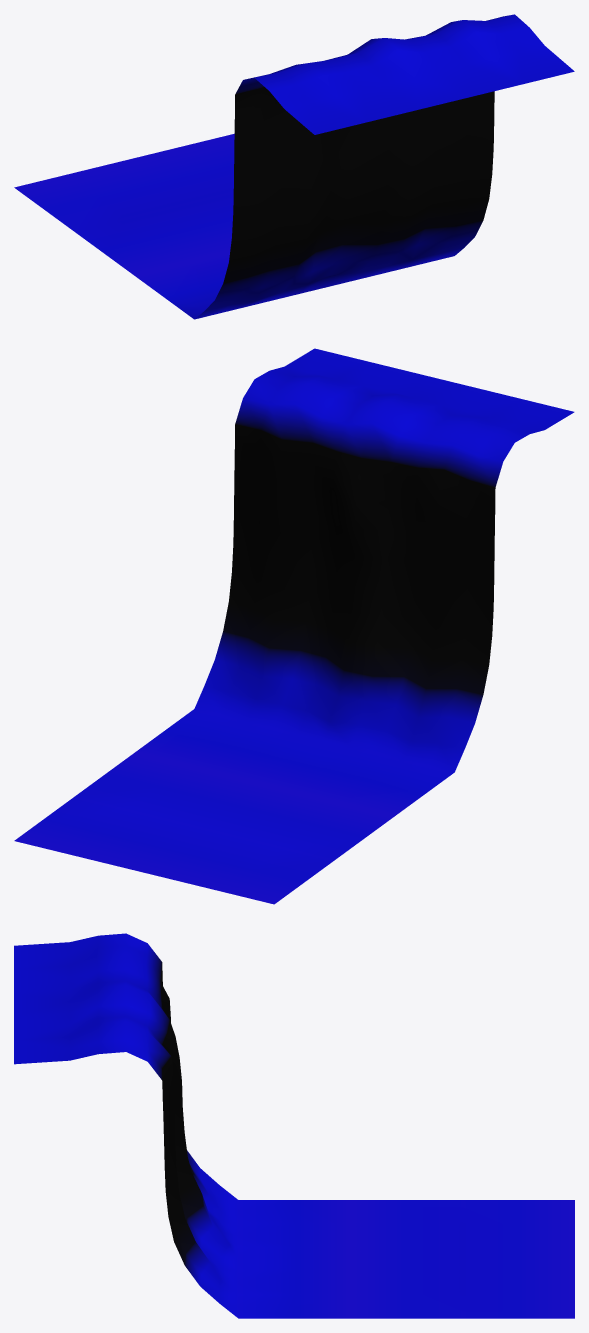
File: WaterFallCliff01A 2M.fbx
3 renders of one model, top to bottom at view 1: azimuth 30°, elevation 25°; view 2: azimuth 150°, elevation 25°; view 3: azimuth 270°, elevation 25°, orthographic. The views are drawn at different scales.
Visible parts, largest first — view 1: WaterFallCliff01A 2M; view 2: WaterFallCliff01A 2M; view 3: WaterFallCliff01A 2M.
Part boxes in pixels (<box>): WaterFallCliff01A 2M: <box>14,14,574,319</box>; WaterFallCliff01A 2M: <box>14,348,574,904</box>; WaterFallCliff01A 2M: <box>14,933,574,1318</box>.
Bounding box in the file's own units: 1 × 1.08 × 2.
